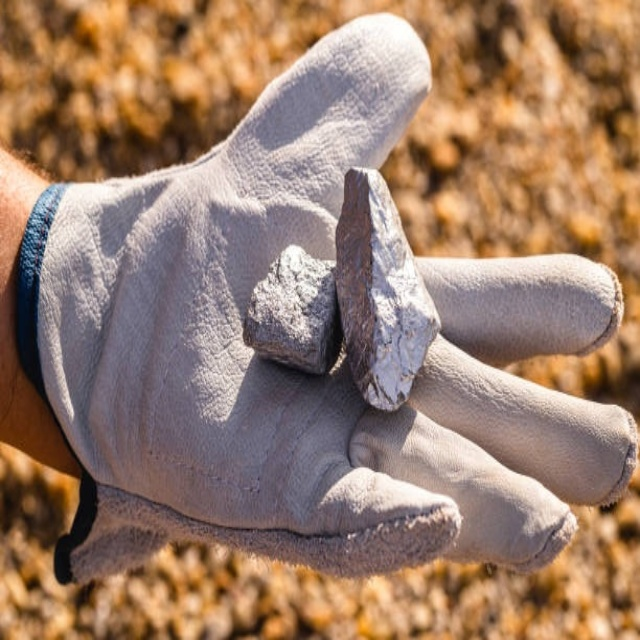Guantes: (14, 3, 635, 591)
